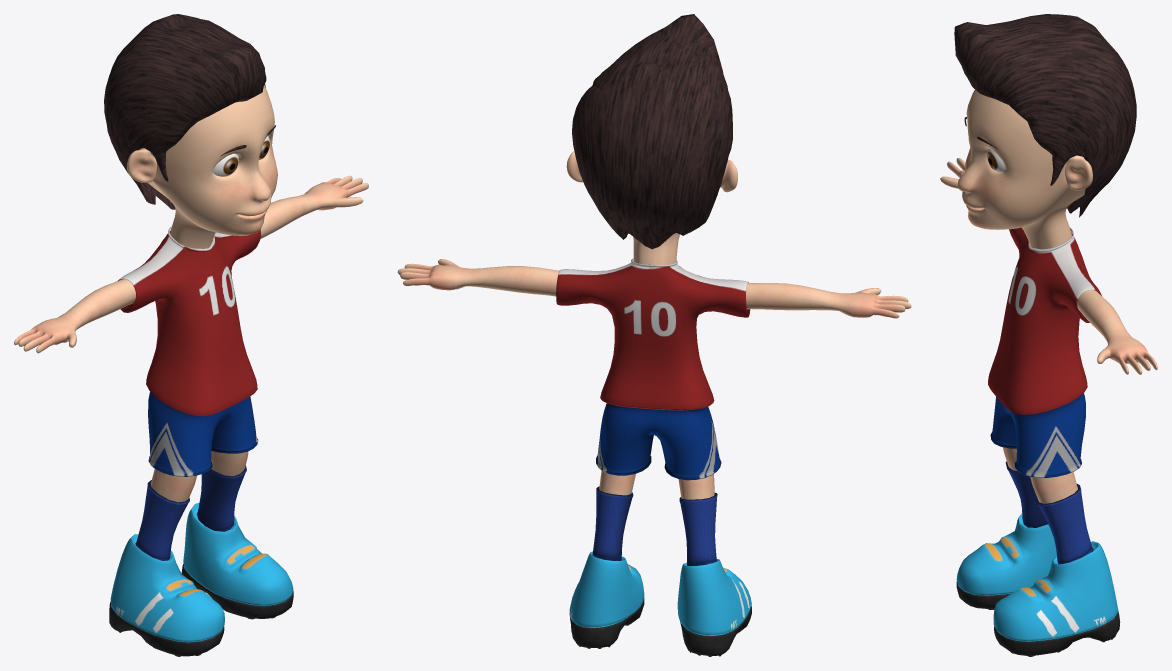
File: football_player_portugal.obj
The picture shows the model from 3 angles, left to right: view 1: azimuth 30°, elevation 25°; view 2: azimuth 150°, elevation 25°; view 3: azimuth 270°, elevation 25°; orthographic projection.
Visible parts, largest first — view 1: low16994:Group17395_Material.001_0; view 2: low16994:Group17395_Material.001_0; view 3: low16994:Group17395_Material.001_0.
Boxes of the visible parts, x1=… form: low16994:Group17395_Material.001_0: x1=14, y1=14, x2=368, y2=656; low16994:Group17395_Material.001_0: x1=397, y1=14, x2=911, y2=656; low16994:Group17395_Material.001_0: x1=940, y1=14, x2=1157, y2=656.
Size of the model in its own units: 1.37 by 1.82 by 0.5984.
1 material, 1 textured.
